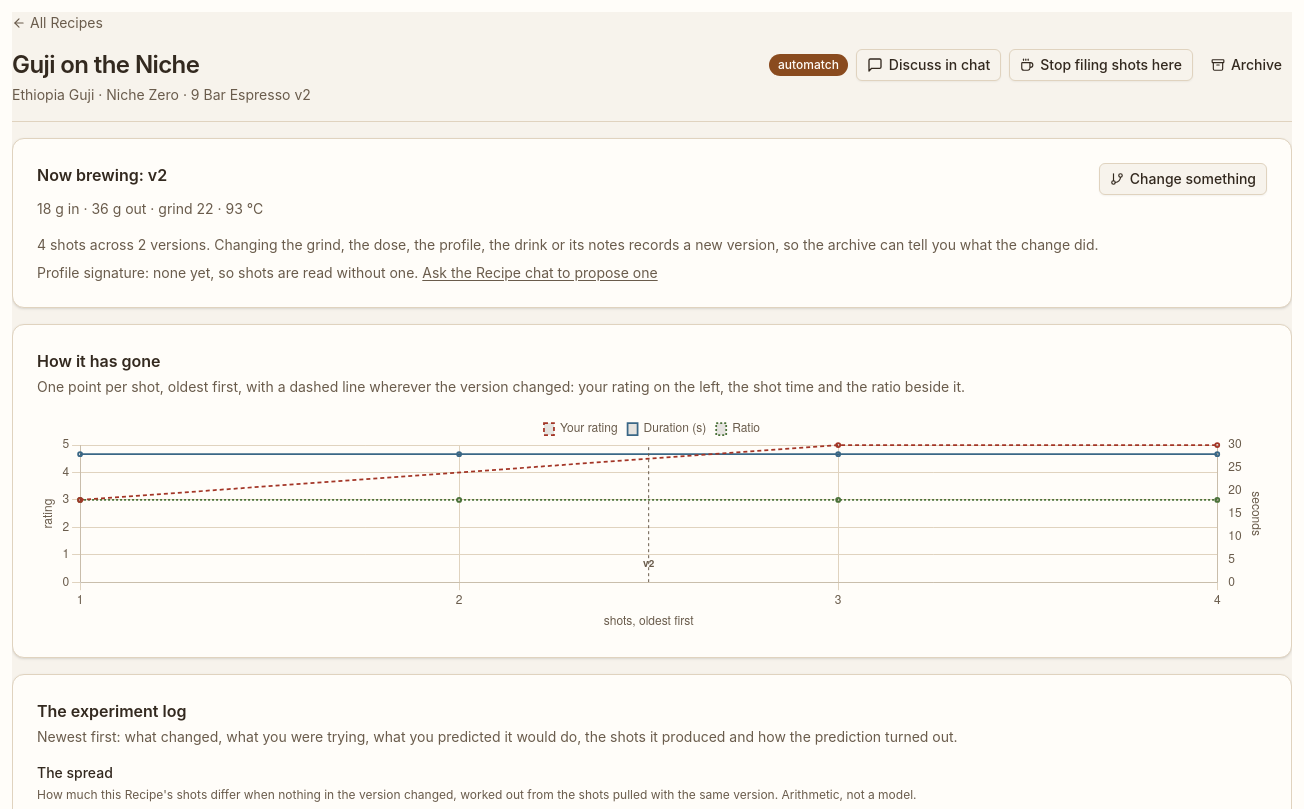
Test: RecipeDetailPage › marks the version the Recipe is on, and reads the current one from the flag
This screenshot has width=1304, height=809.
Click the button "Change something" at (1183, 179), box x1=1099 y1=163 x2=1267 y2=195
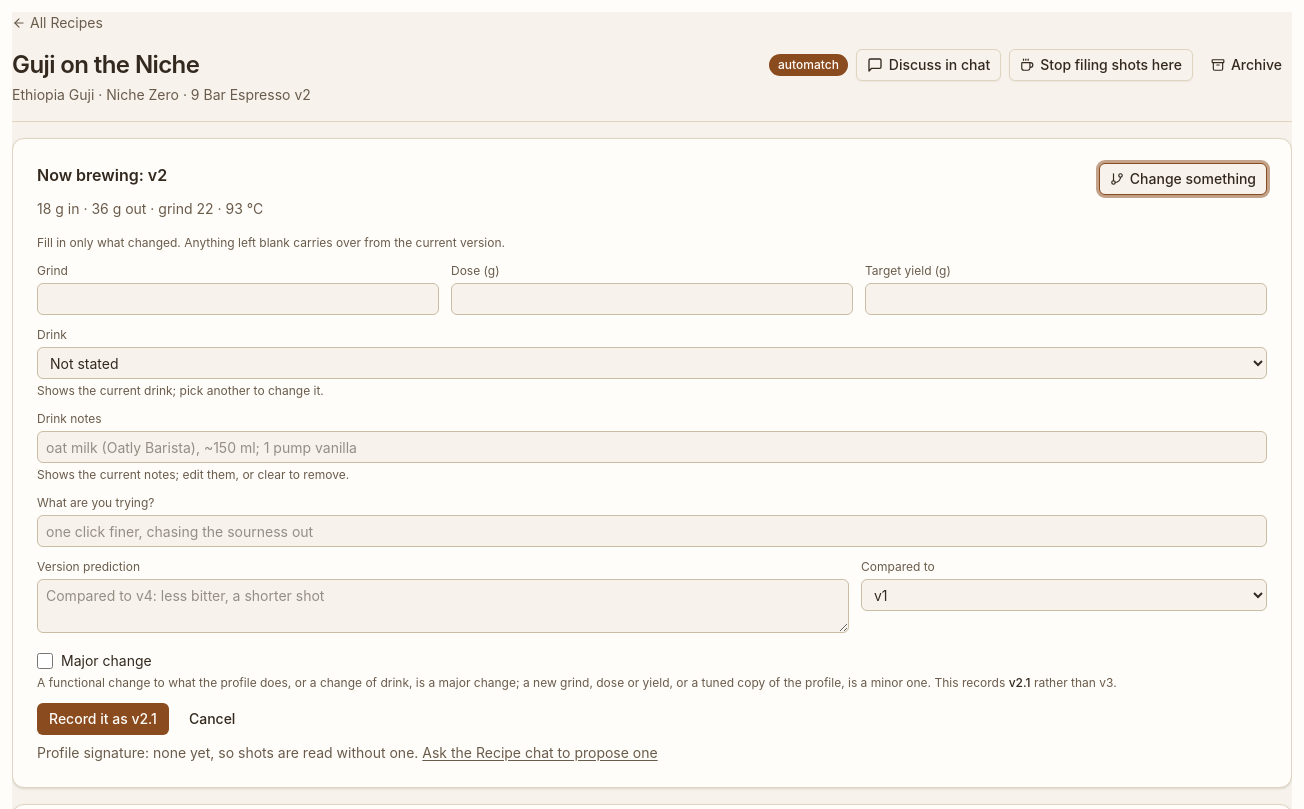
Now the dropdown labelled "Compared to" shows "v1", box x1=861 y1=579 x2=1267 y2=611
